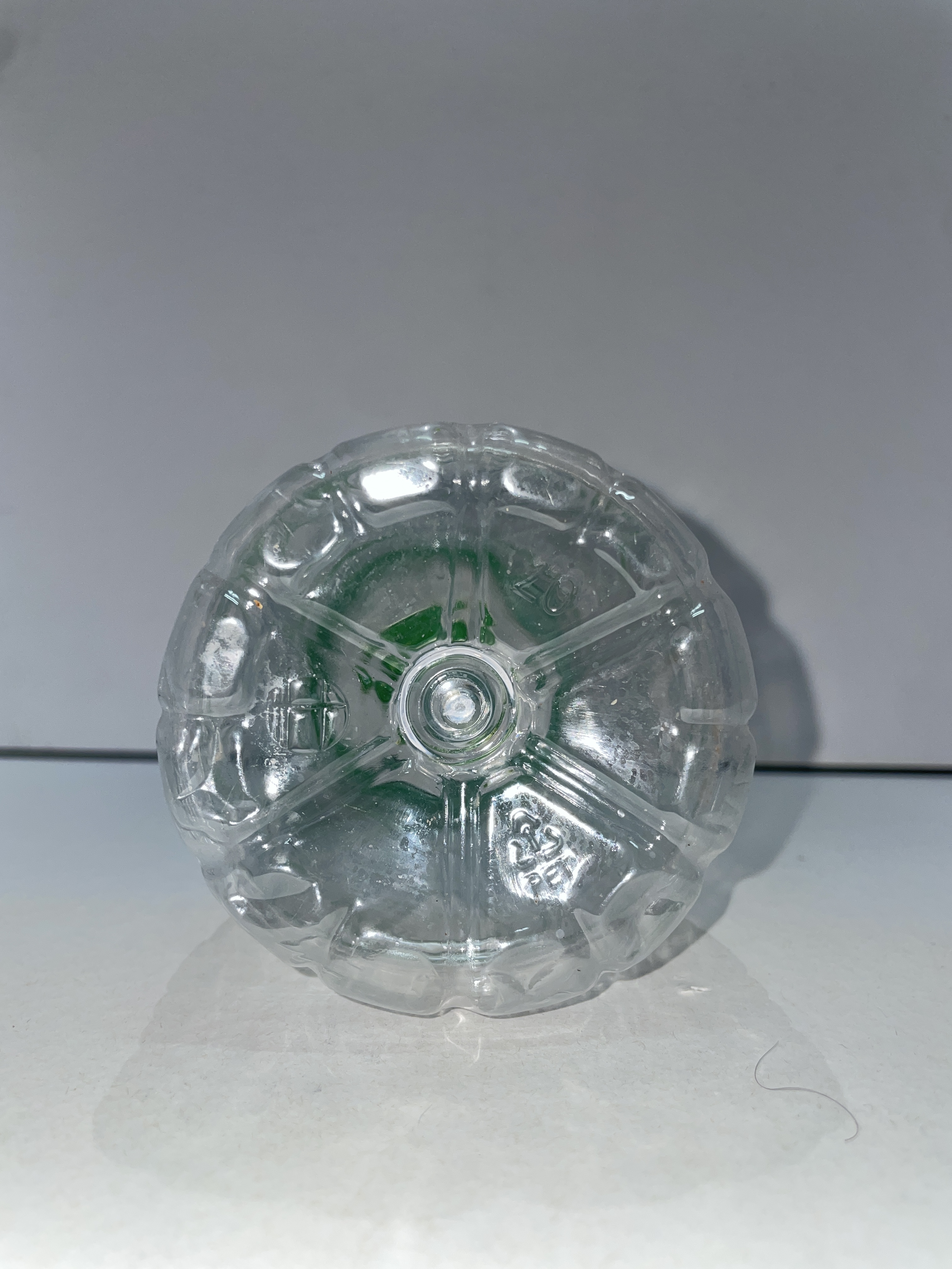Vital 1000ml: (157, 424, 755, 1017)
